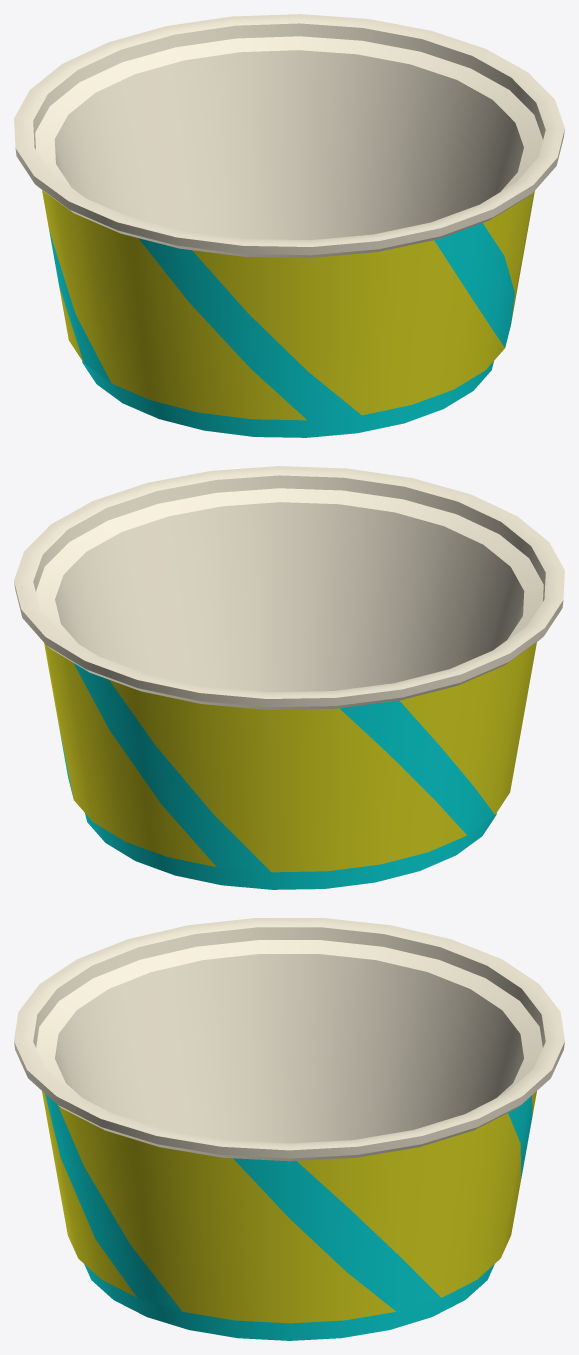
The model's file is Cup M Yellow Blue.fbx.
3 renders of one model, top to bottom at view 1: azimuth 30°, elevation 25°; view 2: azimuth 150°, elevation 25°; view 3: azimuth 270°, elevation 25°, orthographic.
Visible parts, largest first — view 1: Cup M Yellow Blue; view 2: Cup M Yellow Blue; view 3: Cup M Yellow Blue.
Boxes of the visible parts, <box> form: Cup M Yellow Blue: <box>14,14,564,437</box>; Cup M Yellow Blue: <box>14,466,564,889</box>; Cup M Yellow Blue: <box>14,918,564,1340</box>.
Size of the model in its own units: 0.9488 by 0.4176 by 0.9507.
